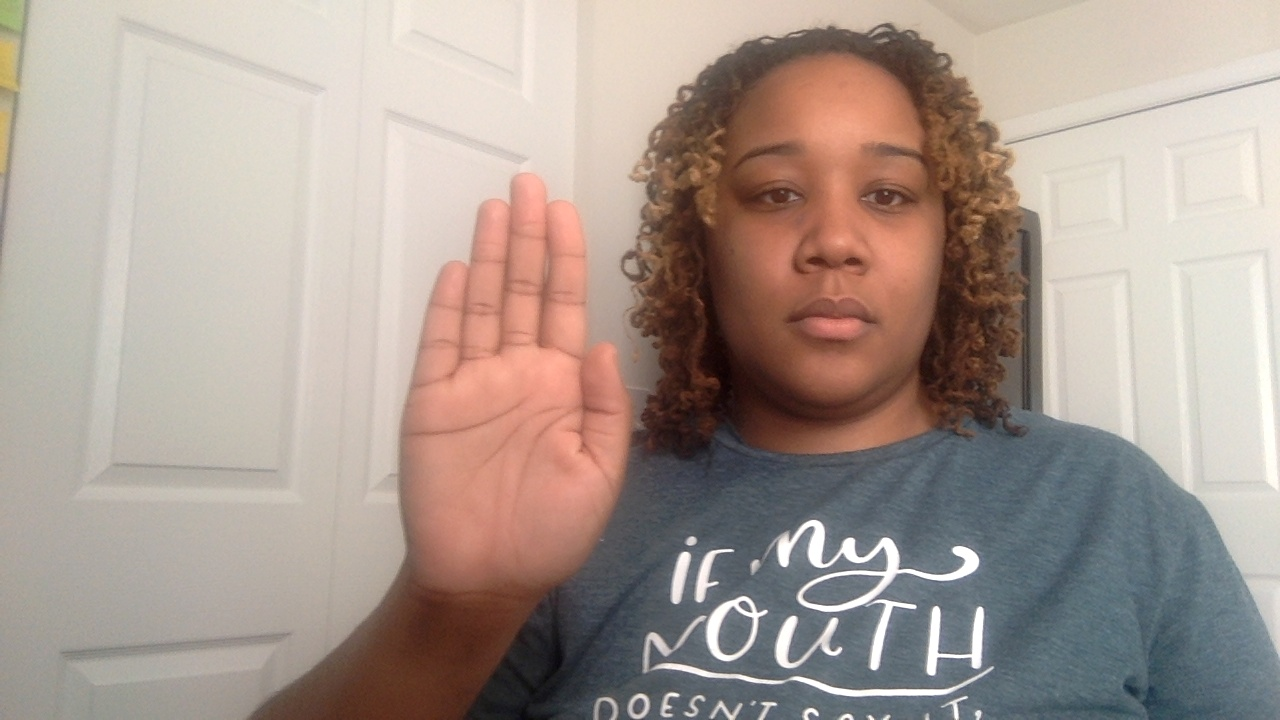hello: (370, 161, 635, 648)
